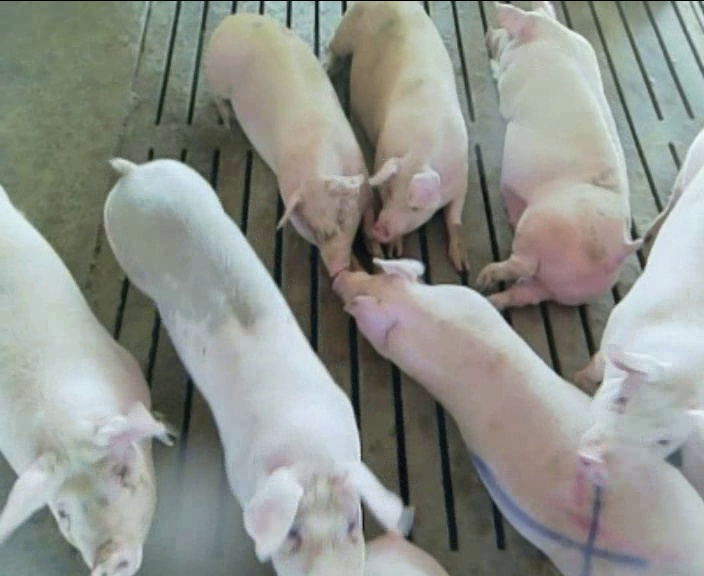pig: (334, 260, 703, 573), (477, 3, 638, 309), (575, 130, 703, 494), (206, 14, 382, 276), (319, 2, 467, 269)
